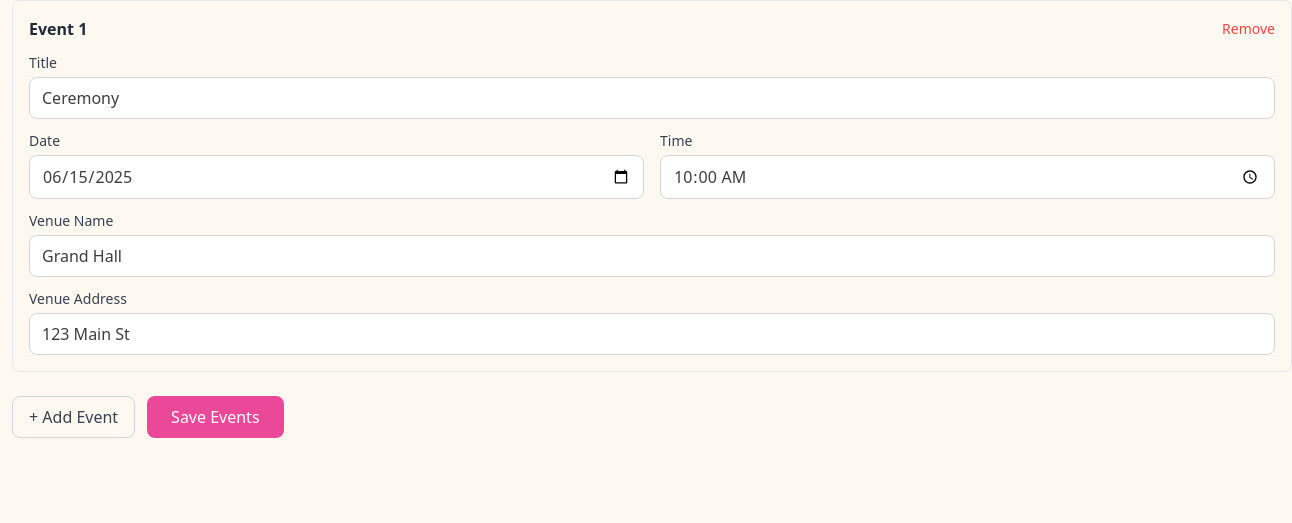
Test case: EventEditor › shows error feedback on failed save
The width and height of the screenshot is (1292, 523).
Click the button "Save Events" at (215, 417), box [147,396,284,438]
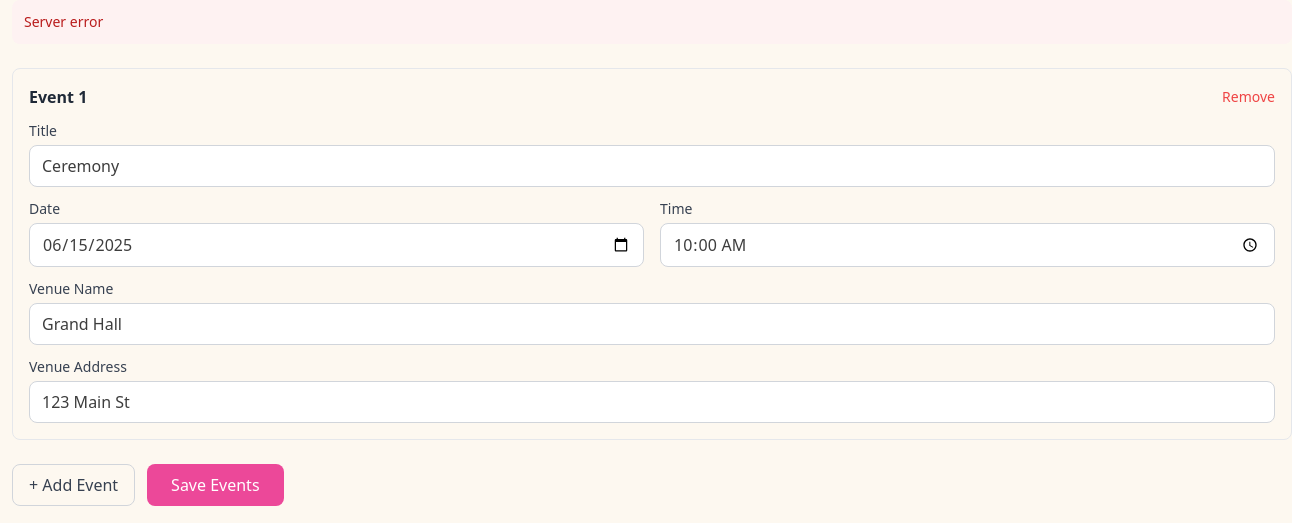
expect the message reads "Server error": met, box [24,12,103,31]
